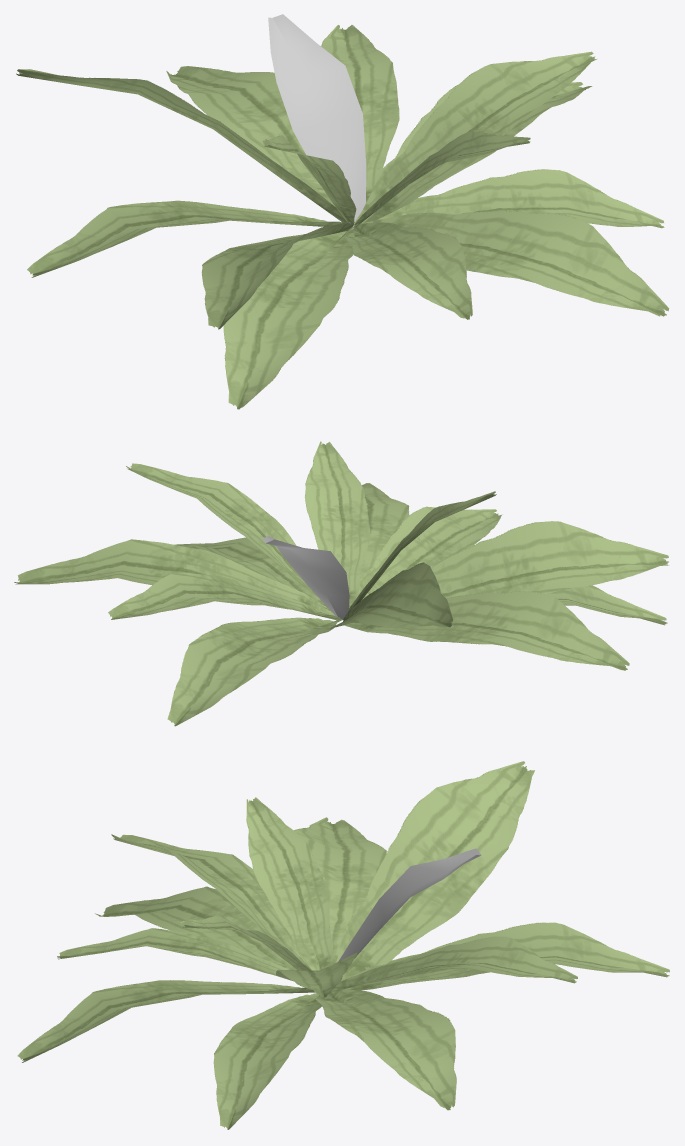
File: dracena plant 01.fbx
3 views of the same model, one above another, from view 1: azimuth 30°, elevation 25°; view 2: azimuth 150°, elevation 25°; view 3: azimuth 270°, elevation 25° (orthographic). The views are drawn at different scales.
Parts seen in each view (by area): view 1: Plane.145; view 2: Plane.145; view 3: Plane.145.
Boxes of the visible parts, box(x1,y1,x2,y2) form: Plane.145: box(16, 14, 669, 409); Plane.145: box(14, 441, 669, 726); Plane.145: box(17, 761, 669, 1129).
Size of the model in its own units: 752 by 217 by 738.
